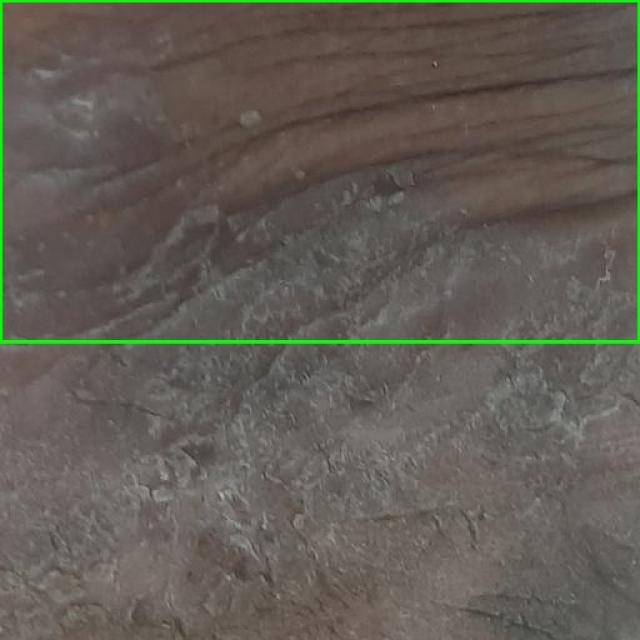Eczema: (0, 0, 639, 341)
